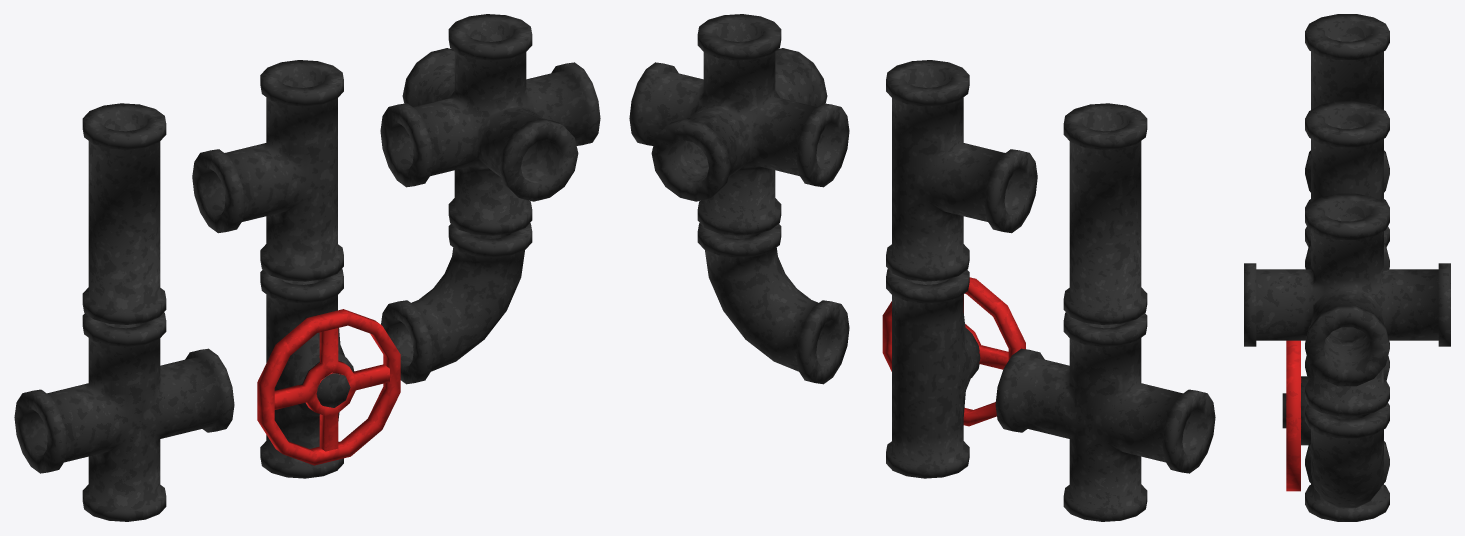
File: LittlePipes.fbx
3 views of the same model, side by side, from view 1: azimuth 30°, elevation 25°; view 2: azimuth 150°, elevation 25°; view 3: azimuth 270°, elevation 25° (orthographic).
Parts seen in each view (by area): view 1: Pipe_04, Pipe_01, Pipe_02, Pipe_06, Pipe_05, Pipe_03; view 2: Pipe_04, Pipe_01, Pipe_02, Pipe_06, Pipe_05, Pipe_03; view 3: Pipe_04, Pipe_02, Pipe_03, Pipe_05, Pipe_06, Pipe_01.
Boxes of the visible parts, x1,y1,x2,y2 form: Pipe_04: [380, 14, 600, 235]; Pipe_01: [14, 312, 234, 521]; Pipe_02: [192, 60, 343, 281]; Pipe_06: [257, 269, 400, 478]; Pipe_05: [82, 103, 166, 324]; Pipe_03: [381, 223, 532, 384]; Pipe_04: [629, 14, 849, 235]; Pipe_01: [995, 312, 1215, 521]; Pipe_02: [886, 60, 1037, 281]; Pipe_06: [882, 269, 1025, 478]; Pipe_05: [1063, 103, 1147, 324]; Pipe_03: [697, 223, 849, 384]; Pipe_04: [1244, 193, 1450, 416]; Pipe_02: [1305, 101, 1389, 202]; Pipe_03: [1305, 404, 1389, 508]; Pipe_05: [1305, 14, 1389, 210]; Pipe_06: [1282, 340, 1389, 521]; Pipe_01: [1305, 226, 1389, 408].
Bounding box in the file's own units: 5200 × 3500 × 1700.
